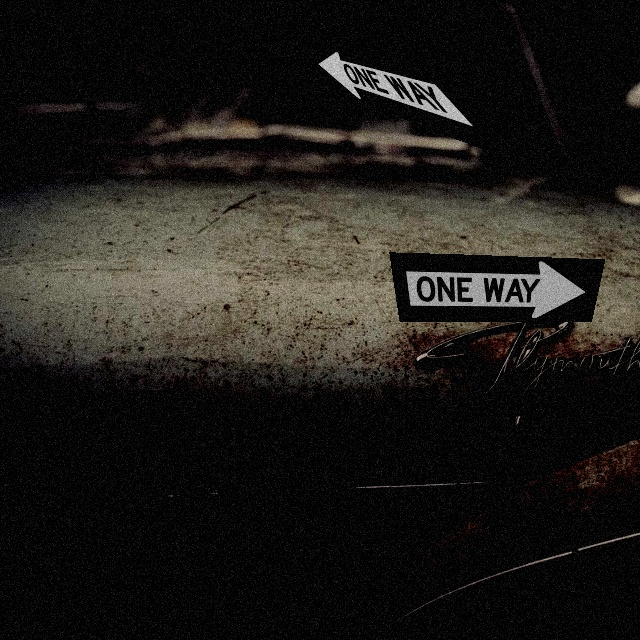ONE_WAY_ left: (306, 43, 522, 164)
ONE_WAY_ right: (389, 252, 605, 322)
